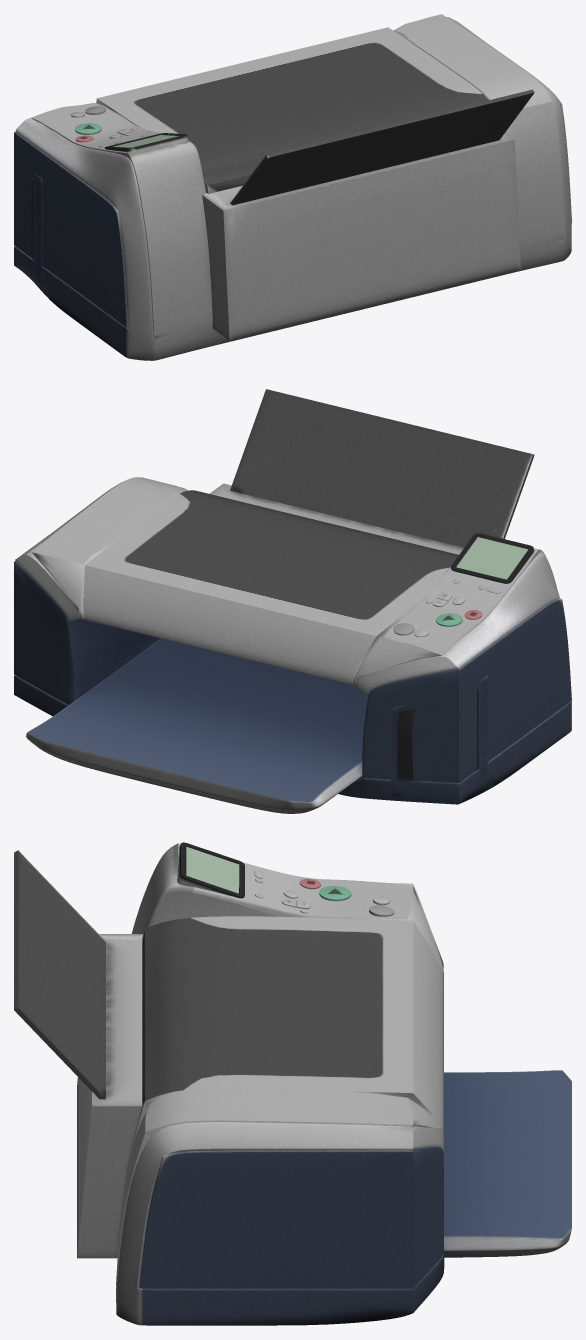
The model's file is Computer_Printer_geo.fbx.
3 views of the same model, one above another, from view 1: azimuth 30°, elevation 25°; view 2: azimuth 150°, elevation 25°; view 3: azimuth 270°, elevation 25° (orthographic). The views are drawn at different scales.
Visible parts, largest first — view 1: Computer_Printer_geo; view 2: Computer_Printer_geo; view 3: Computer_Printer_geo.
Part boxes in pixels (box(x1,y1,x2,y2)): Computer_Printer_geo: box(14, 14, 571, 360); Computer_Printer_geo: box(14, 389, 571, 813); Computer_Printer_geo: box(14, 842, 571, 1325).
Bounding box in the file's own units: 58.44 × 27.36 × 52.27.
1 material, 1 textured.
